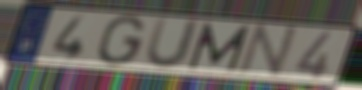4: (292, 29, 335, 80), (49, 14, 87, 62)
G: (93, 13, 148, 68)
M: (186, 21, 254, 74)
N: (234, 22, 302, 81)
U: (142, 15, 205, 72)
